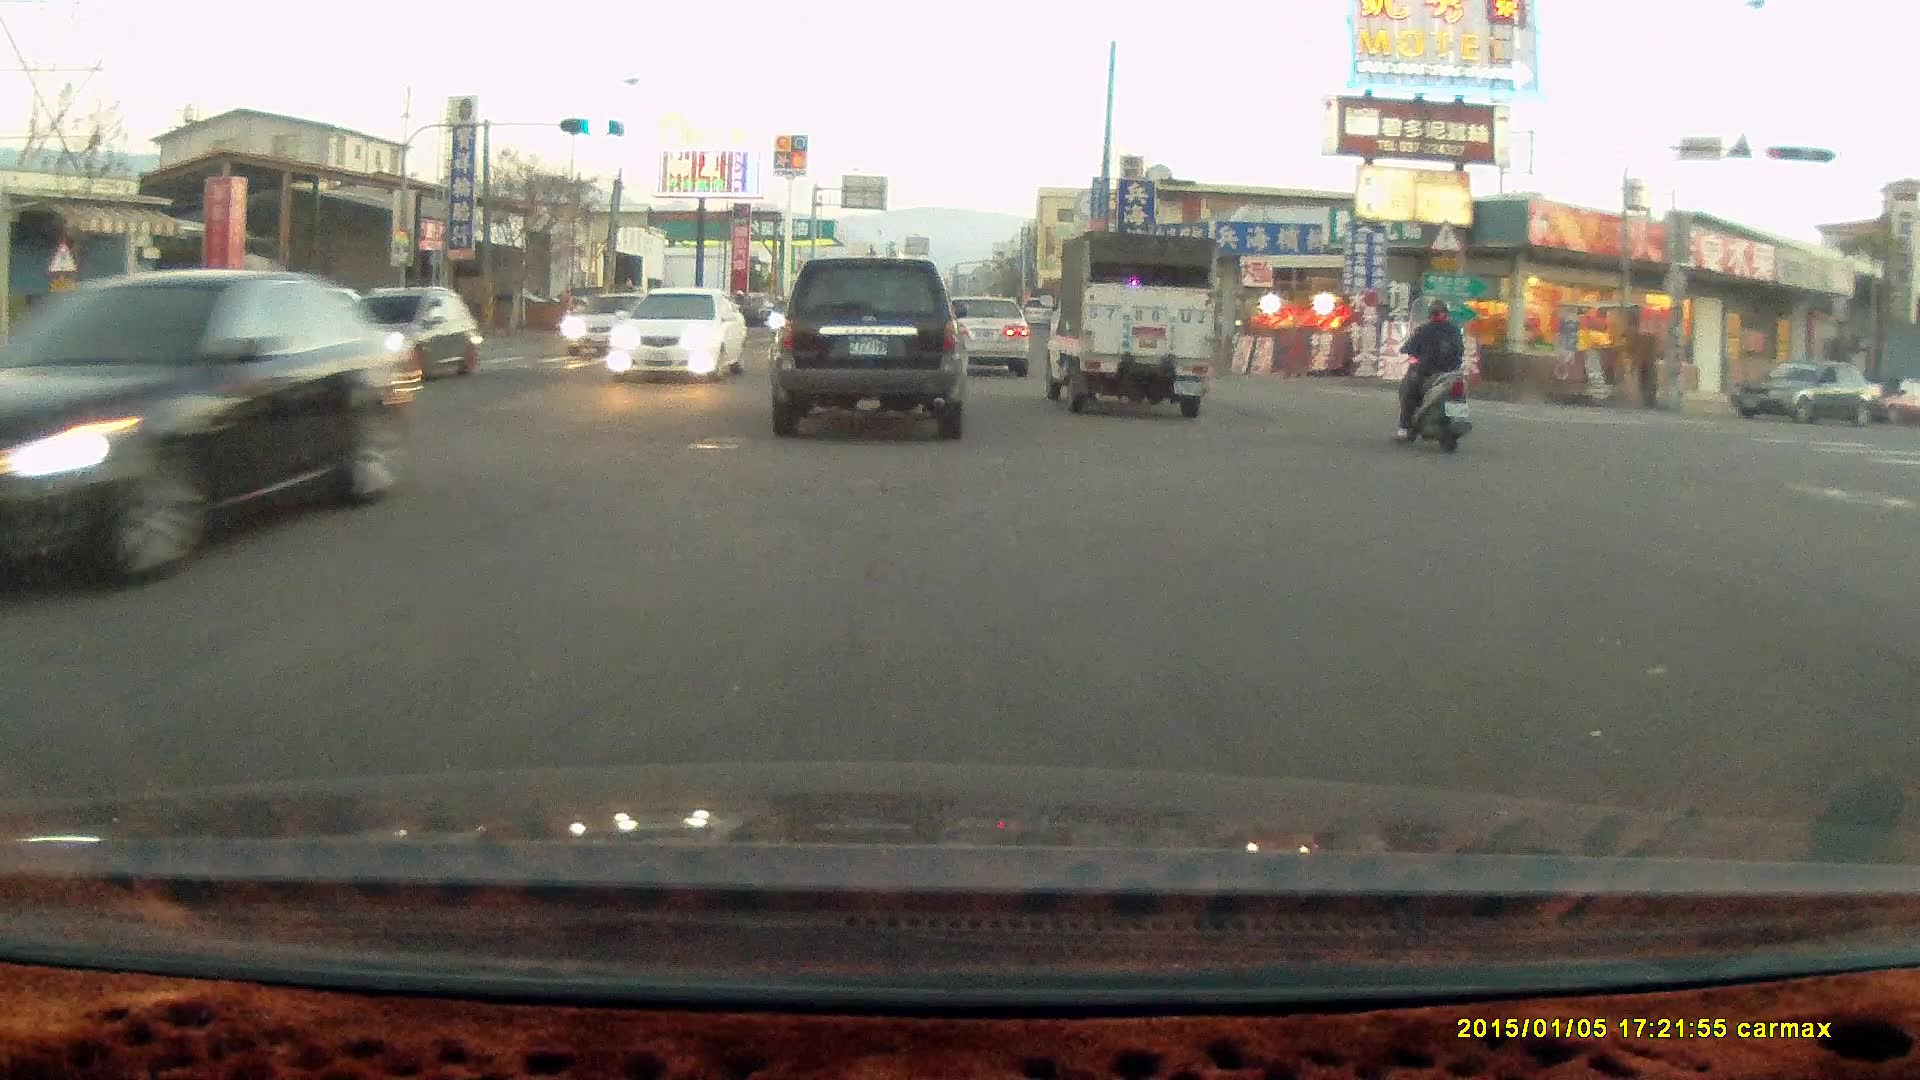rider: (1389, 290, 1475, 450)
vehicle: (1, 268, 418, 611), (766, 253, 969, 438), (1038, 227, 1216, 416), (305, 286, 483, 381), (611, 288, 750, 381), (1730, 358, 1886, 427), (929, 289, 1030, 376), (562, 289, 671, 363), (941, 293, 1034, 380), (267, 283, 393, 335)
